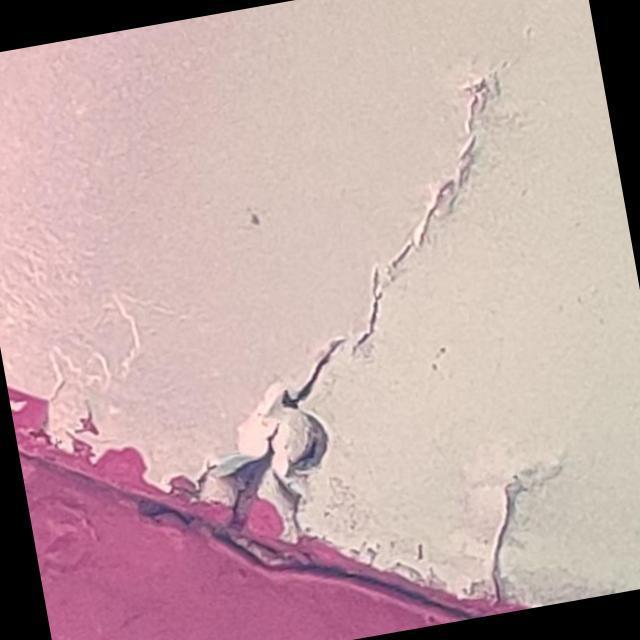Rupture: (105, 38, 602, 578), (432, 449, 562, 620)
